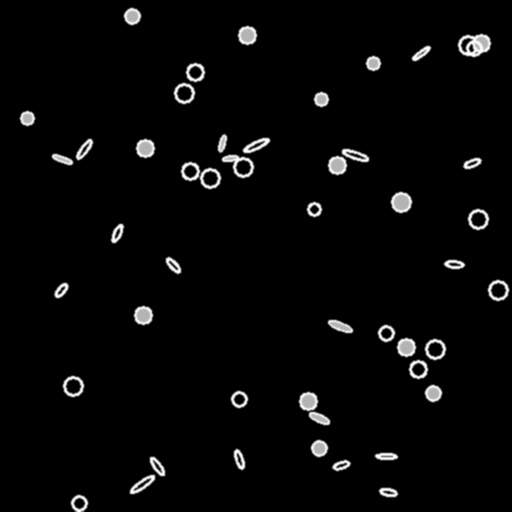pseudomonas: (128, 473, 156, 495), (243, 136, 269, 154), (148, 455, 166, 477), (75, 138, 93, 160), (328, 318, 352, 334), (342, 148, 368, 162), (164, 256, 182, 274), (411, 45, 431, 61), (308, 411, 330, 425), (110, 223, 124, 243), (53, 282, 69, 298), (233, 449, 245, 469), (52, 153, 72, 165), (463, 157, 481, 169), (217, 134, 227, 152), (332, 460, 350, 470), (445, 260, 463, 268), (222, 154, 238, 162), (380, 488, 396, 496), (376, 453, 396, 459)
synechocystis: (201, 169, 219, 187), (489, 281, 507, 299), (459, 36, 477, 54), (426, 340, 444, 358), (175, 84, 193, 102), (234, 158, 252, 176), (392, 193, 410, 211), (64, 377, 82, 395), (469, 210, 487, 228), (398, 339, 414, 355), (182, 163, 198, 179), (300, 393, 316, 409), (187, 64, 203, 80), (135, 307, 151, 323), (473, 35, 489, 51), (239, 27, 255, 43), (410, 361, 426, 377), (137, 140, 153, 156), (329, 157, 345, 173), (72, 496, 86, 510), (426, 386, 440, 400), (232, 392, 246, 406), (125, 9, 139, 23), (379, 326, 393, 340), (467, 41, 481, 55), (312, 441, 326, 455), (315, 93, 327, 105), (21, 112, 33, 124), (308, 203, 320, 215), (367, 57, 379, 69)
